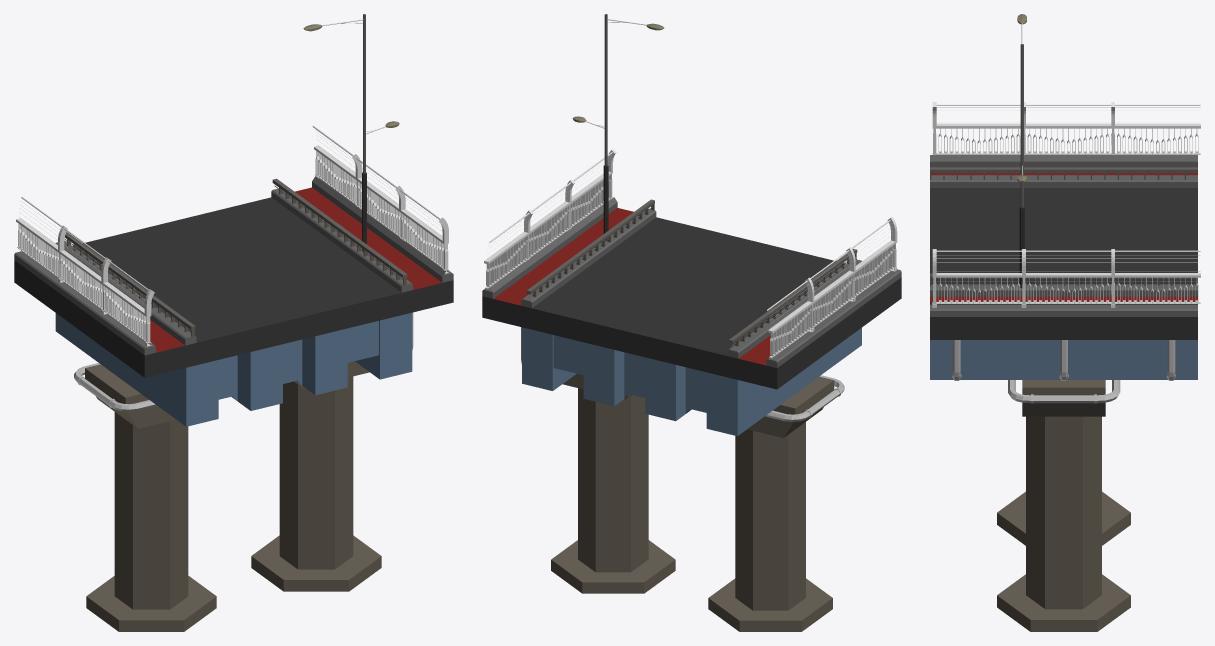
The model's file is bridge_block_1.fbx.
The picture shows the model from 3 angles, left to right: view 1: azimuth 30°, elevation 25°; view 2: azimuth 150°, elevation 25°; view 3: azimuth 270°, elevation 25°; orthographic projection. The views are drawn at different scales.
Parts seen in each view (by area): view 1: BridgeBlockWithPillar; view 2: BridgeBlockWithPillar; view 3: BridgeBlockWithPillar.
Boxes of the visible parts, x1,y1,x2,y2 form: BridgeBlockWithPillar: (14,14,453,631); BridgeBlockWithPillar: (482,14,901,631); BridgeBlockWithPillar: (930,14,1200,631).
Size of the model in its own units: 1368 by 2380 by 1011.
